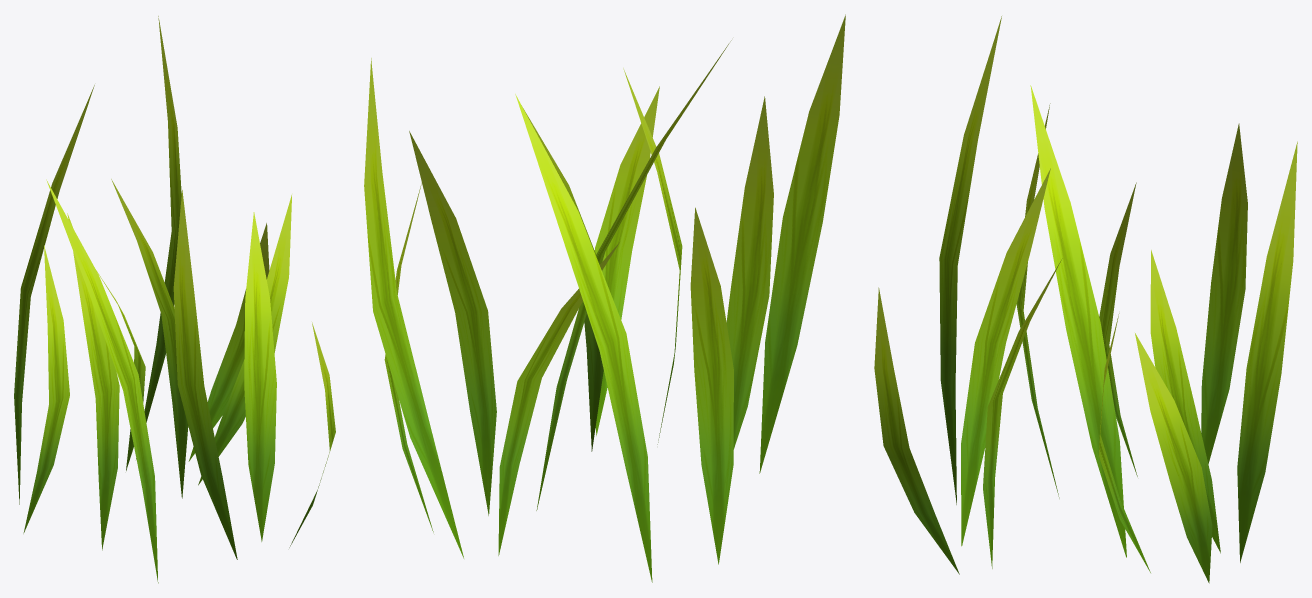
File: SM_GrassTurf_001.fbx
The picture shows the model from 3 angles, left to right: view 1: azimuth 30°, elevation 25°; view 2: azimuth 150°, elevation 25°; view 3: azimuth 270°, elevation 25°; orthographic projection. The views are drawn at different scales.
Visible parts, largest first — view 1: SM_GrassTurf_001; view 2: SM_GrassTurf_001; view 3: SM_GrassTurf_001.
Boxes of the visible parts, x1=… form: SM_GrassTurf_001: x1=14, y1=16, x2=335, y2=583; SM_GrassTurf_001: x1=364, y1=14, x2=845, y2=582; SM_GrassTurf_001: x1=874, y1=16, x2=1297, y2=583.
Bounding box in the file's own units: 62.88 × 83.12 × 71.06.
